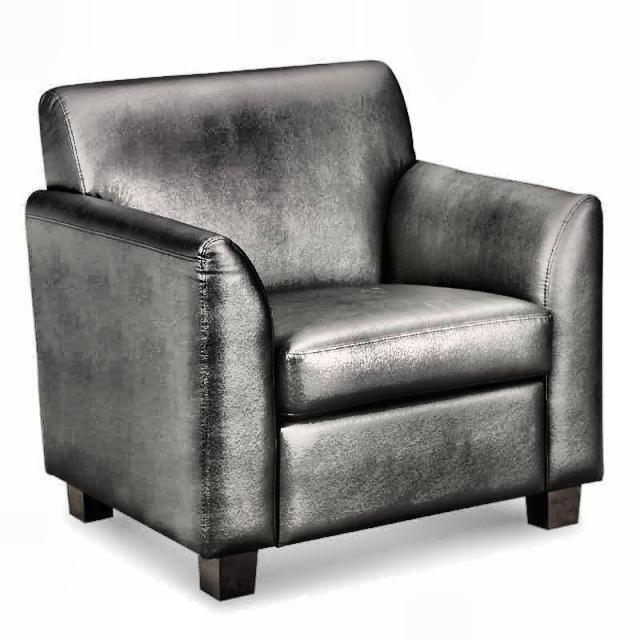sofa: (24, 58, 605, 600)
